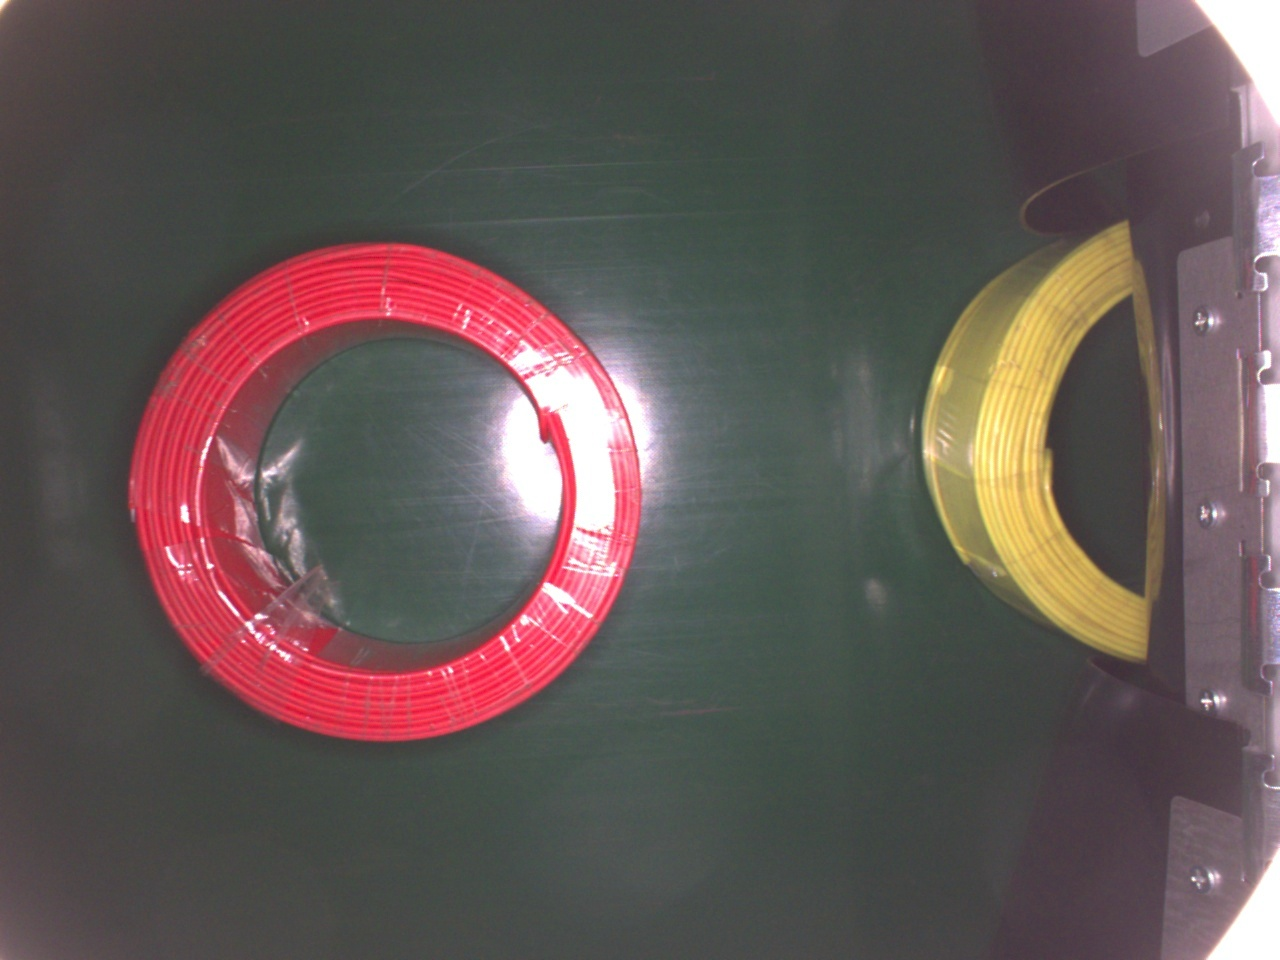red: (120, 236, 651, 745)
yellow: (924, 212, 1151, 665)
